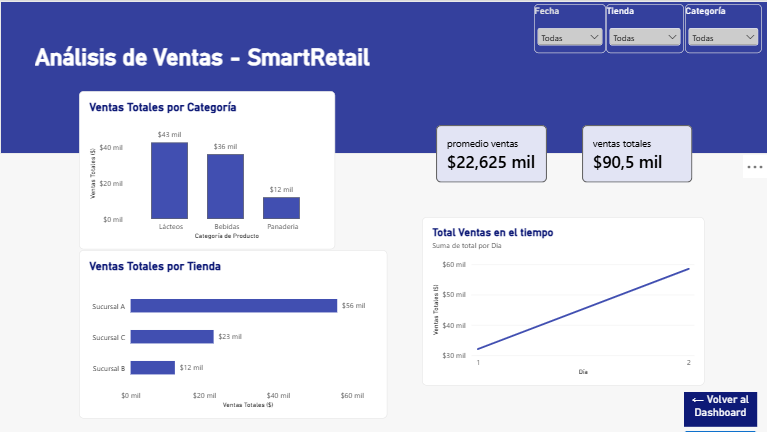

This screenshot's page, from the dashboard's own definition file:
{"tool":"powerbi","page":{"name":"Rep1_Análisis de Ventas","canvas":[1280,720],"ordinal":0},"visuals":[{"type":"shape","box":[0,0,1280,255],"z":0},{"type":"textbox","title":"Análisis de Ventas - SmartRetail","box":[58,70,1222,80],"z":1000},{"type":"clusteredColumnChart","title":"Ventas Totales por Categoría","fields":{"Category":["DimProducto.categoria"],"Y":["FactVentas.ventas totales"]},"box":[131.4,150,427.1,264.3],"z":2000},{"type":"clusteredBarChart","title":"Ventas Totales por Tienda","fields":{"Category":["FactVentas.tienda"],"Y":["FactVentas.ventas totales"]},"box":[131.4,414.3,514.3,281.4],"z":3000},{"type":"slicer","title":"Categoría","fields":{"Values":["DimProducto.categoria"]},"box":[1141.1,5.6,128,82],"z":4000},{"type":"slicer","title":"Tienda","fields":{"Values":["DimTienda.tienda"]},"box":[1010,5.6,130,82],"z":5000},{"type":"lineChart","title":"Total Ventas en el tiempo","fields":{"Category":["FactVentas.fecha.Variación.Jerarquía de fechas.Año","FactVentas.fecha.Variación.Jerarquía de fechas.Trimestre","FactVentas.fecha.Variación.Jerarquía de fechas.Mes","FactVentas.fecha.Variación.Jerarquía de fechas.Día"],"Y":["Sum(FactVentas.total)"]},"box":[702.9,360,471.4,281.4],"z":6000},{"type":"cardVisual","fields":{"Data":["FactVentas.ventas totales"]},"box":[970.6,207.4,184.3,96.5],"z":7000},{"type":"cardVisual","fields":{"Data":["FactVentas.promedio ventas"]},"box":[727.2,207.4,185.8,96.5],"z":8000},{"type":"actionButton","title":"← Volver al Dashboard","box":[1140,651.7,121.7,68.3],"z":9000},{"type":"slicer","title":"Fecha","fields":{"Values":["FactVentas.fecha"]},"box":[890,5.6,120,82.2],"z":10000}]}

Visuals, with their boxes in screenshot pixels (x1, y1, x2, y2), scaled from the page's 1280x720 canvas onto the 767x432 screenshot:
shape: [0, 0, 766, 153]
"Análisis de Ventas - SmartRetail" textbox: [35, 42, 766, 90]
"Ventas Totales por Categoría" clusteredColumnChart: [79, 90, 335, 249]
"Ventas Totales por Tienda" clusteredBarChart: [79, 249, 387, 417]
"Categoría" slicer: [684, 3, 760, 53]
"Tienda" slicer: [605, 3, 683, 53]
"Total Ventas en el tiempo" lineChart: [421, 216, 704, 385]
cardVisual - FactVentas.ventas totales: [582, 124, 692, 182]
cardVisual - FactVentas.promedio ventas: [436, 124, 547, 182]
"← Volver al Dashboard" actionButton: [683, 391, 756, 431]
"Fecha" slicer: [533, 3, 605, 53]
